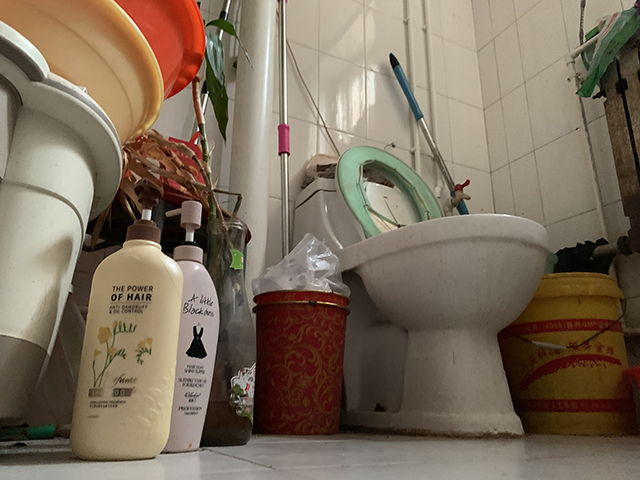closestool: (291, 145, 551, 441)
trashcan: (248, 289, 352, 436)
